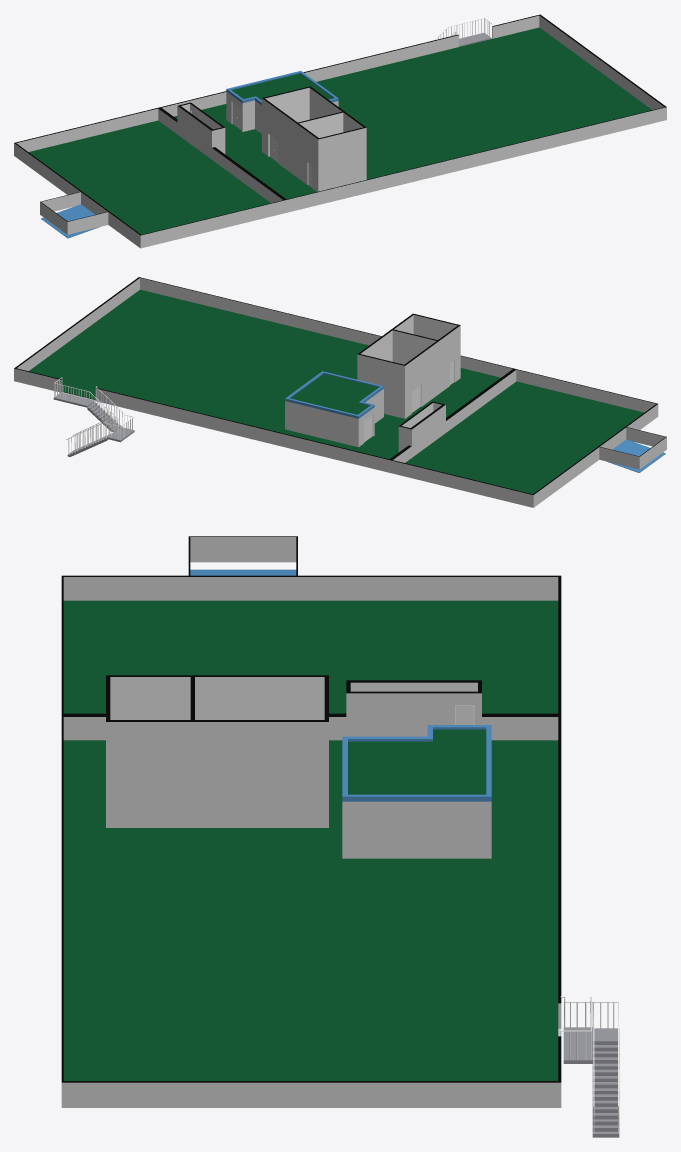
File: soulbrain_F-1-3F.glb
The picture shows the model from 3 angles, top to bottom: view 1: azimuth 30°, elevation 25°; view 2: azimuth 150°, elevation 25°; view 3: azimuth 270°, elevation 25°; orthographic projection. The views are drawn at different scales.
Visible parts, largest first — view 1: Box362, F-1-3F, Box371, Rectangle1248, Box366; view 2: Box362, F-1-3F, Box371, Rectangle1248, Box366; view 3: Box362, F-1-3F, Box371, Rectangle1248.
Boxes of the visible parts, <box> form: Box362: <box>29,27,651,234</box>; F-1-3F: <box>14,14,666,248</box>; Box371: <box>177,86,366,191</box>; Rectangle1248: <box>226,91,338,133</box>; Box366: <box>41,204,99,238</box>; Box362: <box>29,289,643,494</box>; F-1-3F: <box>14,277,666,507</box>; Box371: <box>357,313,460,457</box>; Rectangle1248: <box>285,389,383,447</box>; Box366: <box>608,439,665,472</box>; Box362: <box>63,600,558,1080</box>; F-1-3F: <box>61,536,619,1137</box>; Box371: <box>106,675,481,827</box>; Rectangle1248: <box>342,801,491,858</box>.
Size of the model in its own units: 59.75 by 10.4 by 25.78.
